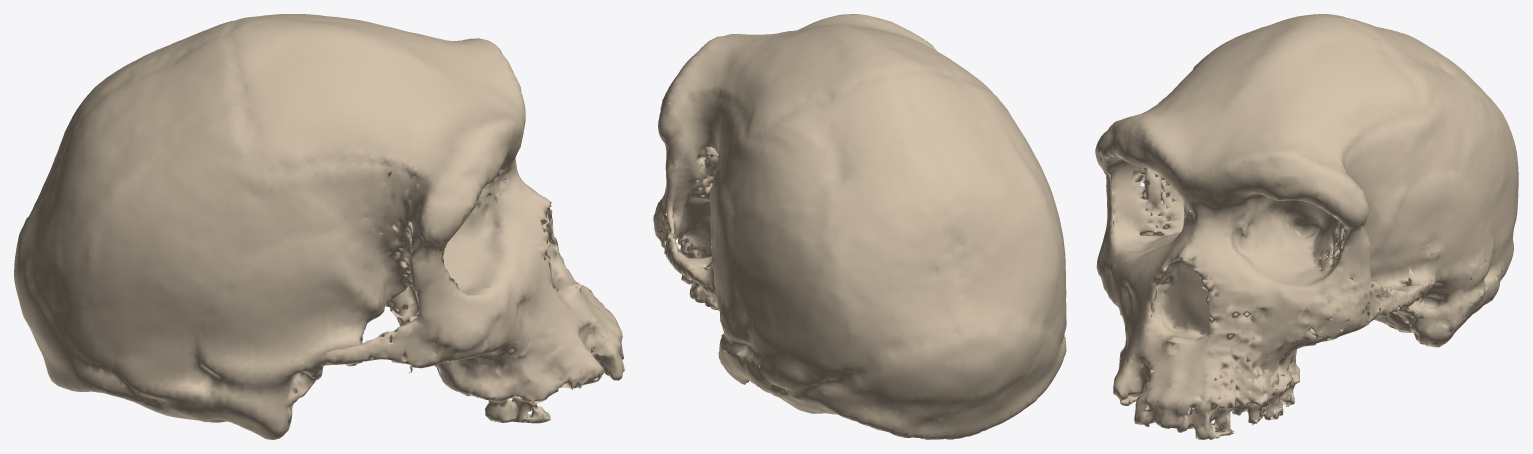
File: kabwe.glb
3 renders of one model, left to right at view 1: azimuth 30°, elevation 25°; view 2: azimuth 150°, elevation 25°; view 3: azimuth 270°, elevation 25°, orthographic. The views are drawn at different scales.
Size of the model in its own units: 0.9948 by 0.6985 by 0.8553.
